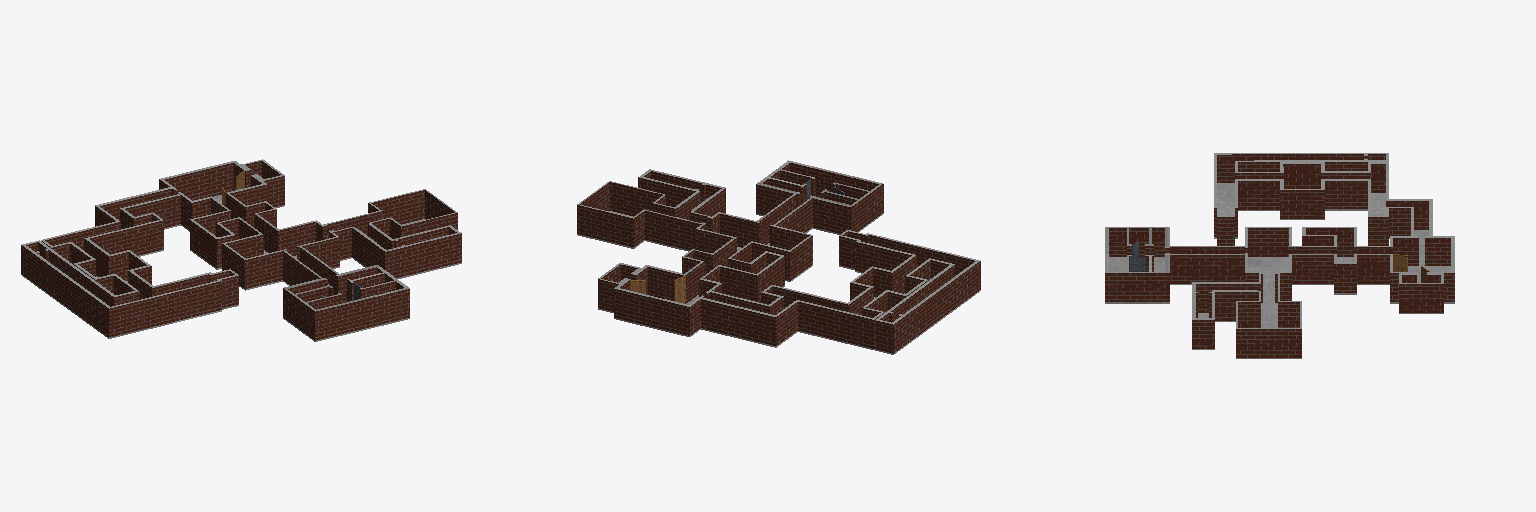
The picture shows the model from 3 angles: view 1: azimuth 30°, elevation 25°; view 2: azimuth 150°, elevation 25°; view 3: azimuth 270°, elevation 25°; orthographic projection.
Parts seen in each view (by area): view 1: Cube; view 2: Cube; view 3: Cube.
Boxes of the visible parts, box(x1,y1,x2,y2) form: Cube: box(21, 159, 461, 341); Cube: box(577, 160, 980, 354); Cube: box(1105, 153, 1454, 358).
Size of the model in its own units: 30.48 by 2.46 by 25.64.
4 materials, 4 textured.